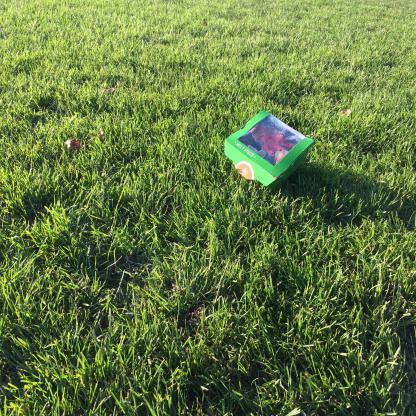karton: (226, 110, 316, 193)
